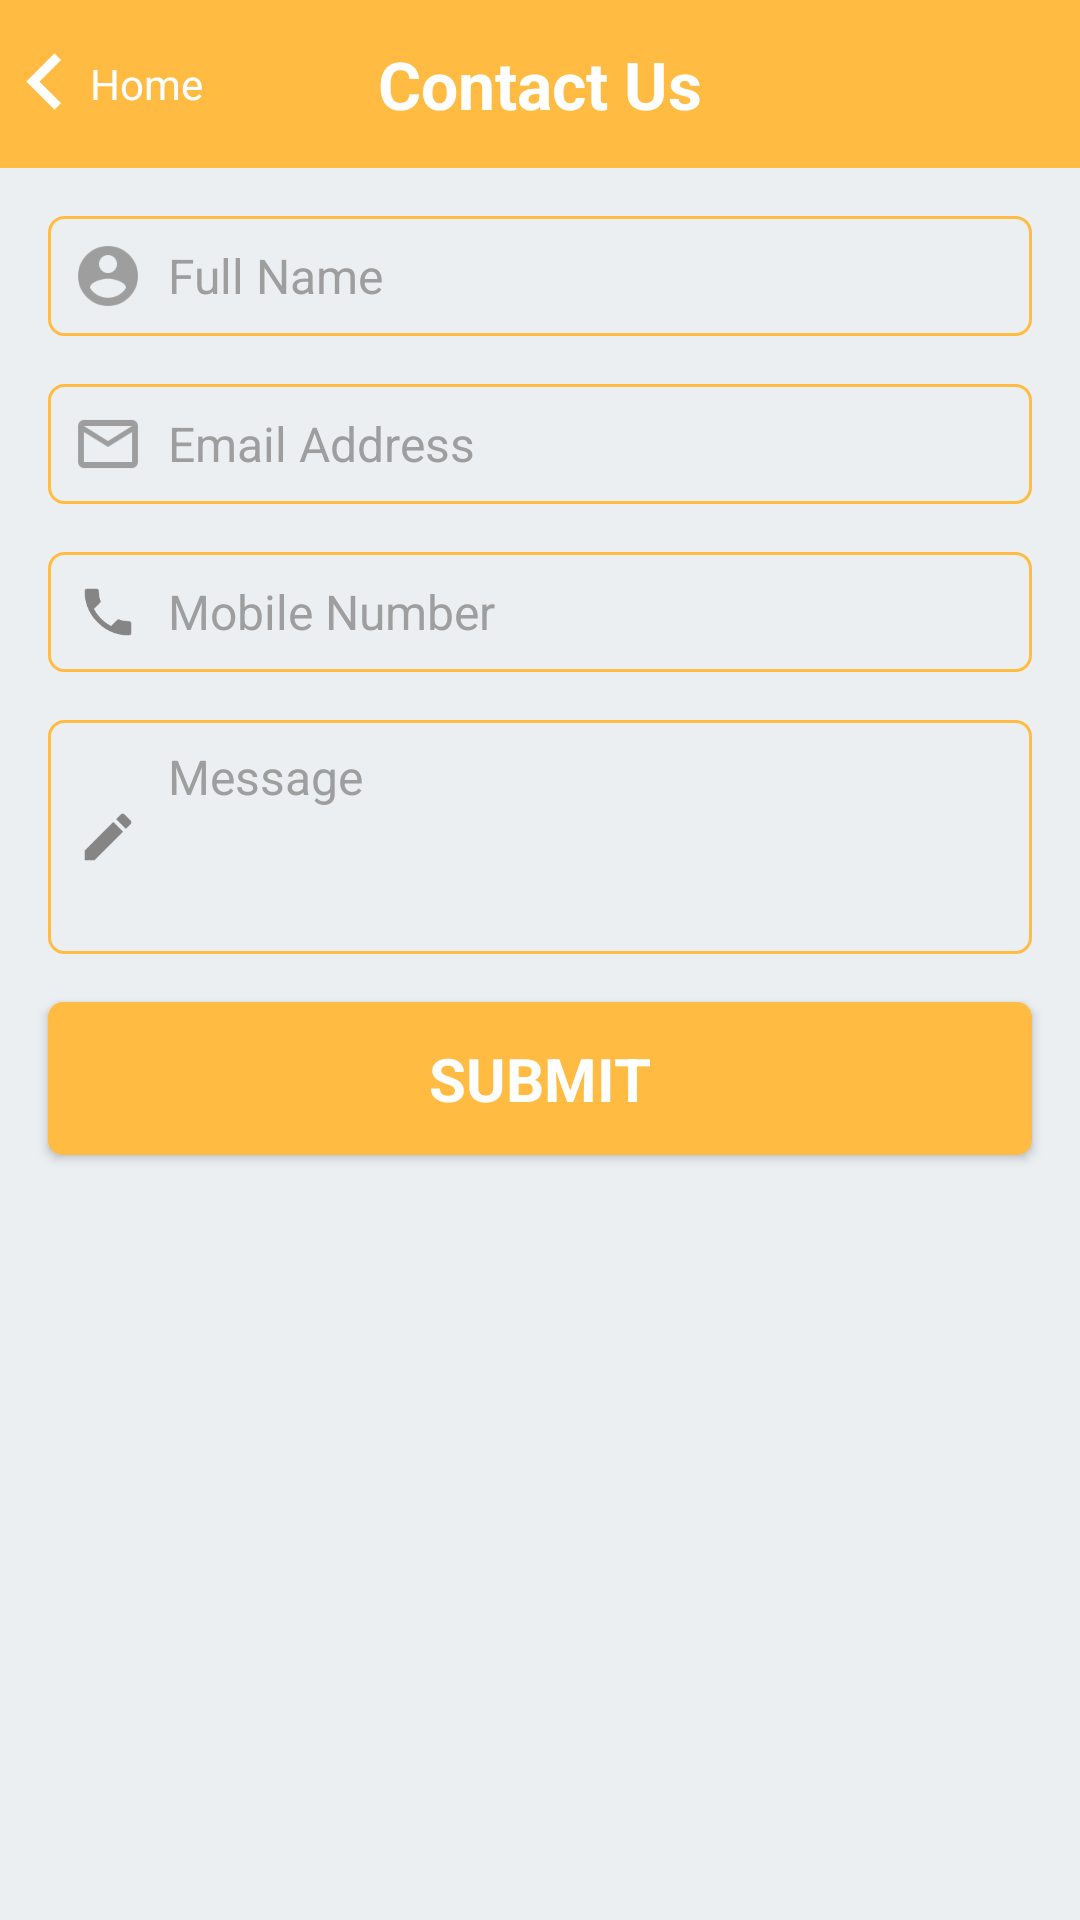

Icon bounding boxes for this 1080px×1920px phone screenshot, format region(x1, y1, x2, y2):
back: region(26, 53, 61, 110)
